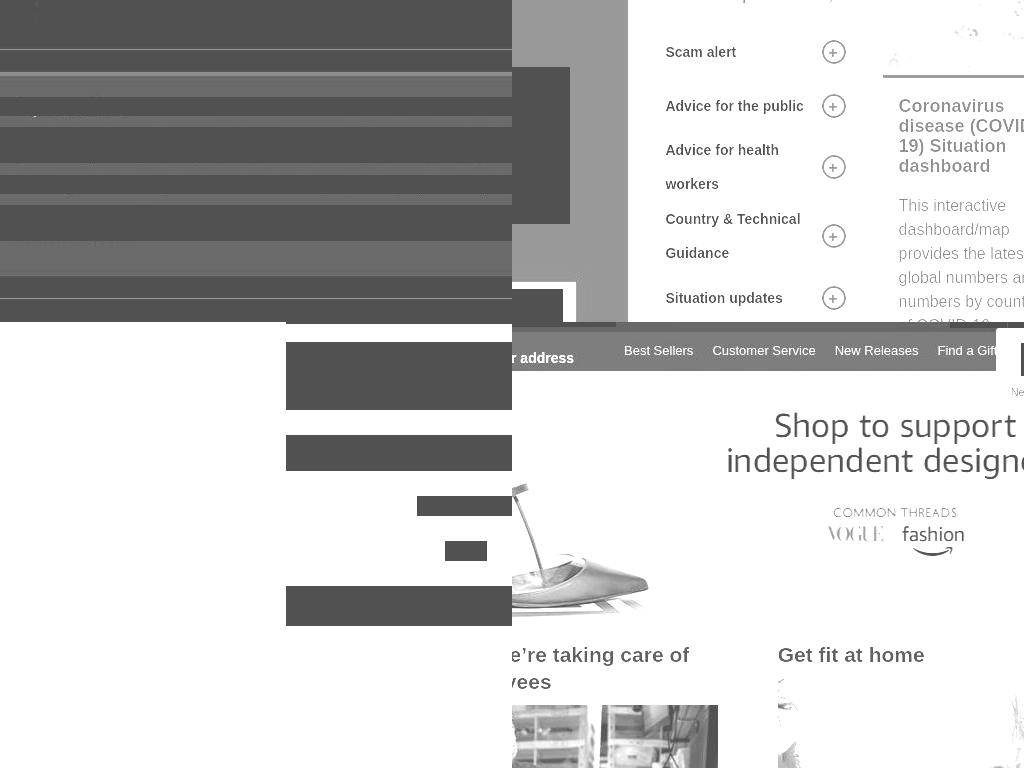button: (777, 678, 1024, 768), (658, 133, 853, 201), (658, 202, 853, 270), (882, 0, 1024, 75), (898, 95, 1024, 176), (512, 67, 570, 224), (286, 586, 512, 626), (286, 435, 512, 471), (658, 34, 853, 69), (658, 88, 853, 123), (658, 280, 853, 315), (658, 0, 853, 20), (704, 338, 824, 364), (905, 382, 1024, 408), (512, 333, 586, 372), (616, 426, 722, 452), (760, 382, 863, 408), (826, 338, 927, 364), (616, 338, 702, 364), (929, 338, 1006, 364), (616, 382, 691, 408), (417, 496, 512, 516), (693, 382, 758, 408), (512, 289, 563, 322), (865, 382, 903, 408), (0, 0, 35, 24)
field: (286, 370, 512, 410)
heading: (512, 641, 718, 695), (898, 95, 1024, 176), (0, 97, 512, 116), (777, 641, 1024, 668)
image: (777, 678, 1024, 768), (882, 0, 1024, 75), (0, 0, 35, 24), (304, 597, 322, 615)
link: (389, 145, 484, 163), (30, 223, 121, 241)
text: (0, 127, 512, 163), (0, 205, 512, 241), (898, 193, 1024, 322), (0, 175, 512, 194), (665, 211, 801, 261), (286, 342, 512, 370), (665, 142, 780, 192), (665, 97, 804, 114), (410, 596, 512, 616), (665, 289, 783, 306), (512, 351, 586, 371), (665, 43, 737, 60), (445, 541, 487, 561), (512, 299, 524, 316), (483, 145, 487, 163), (120, 223, 124, 241)
